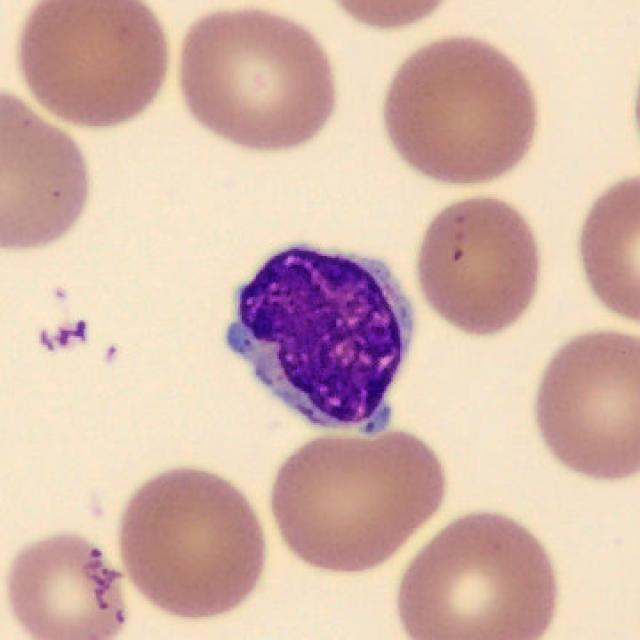Linfocito: (224, 247, 414, 436)
